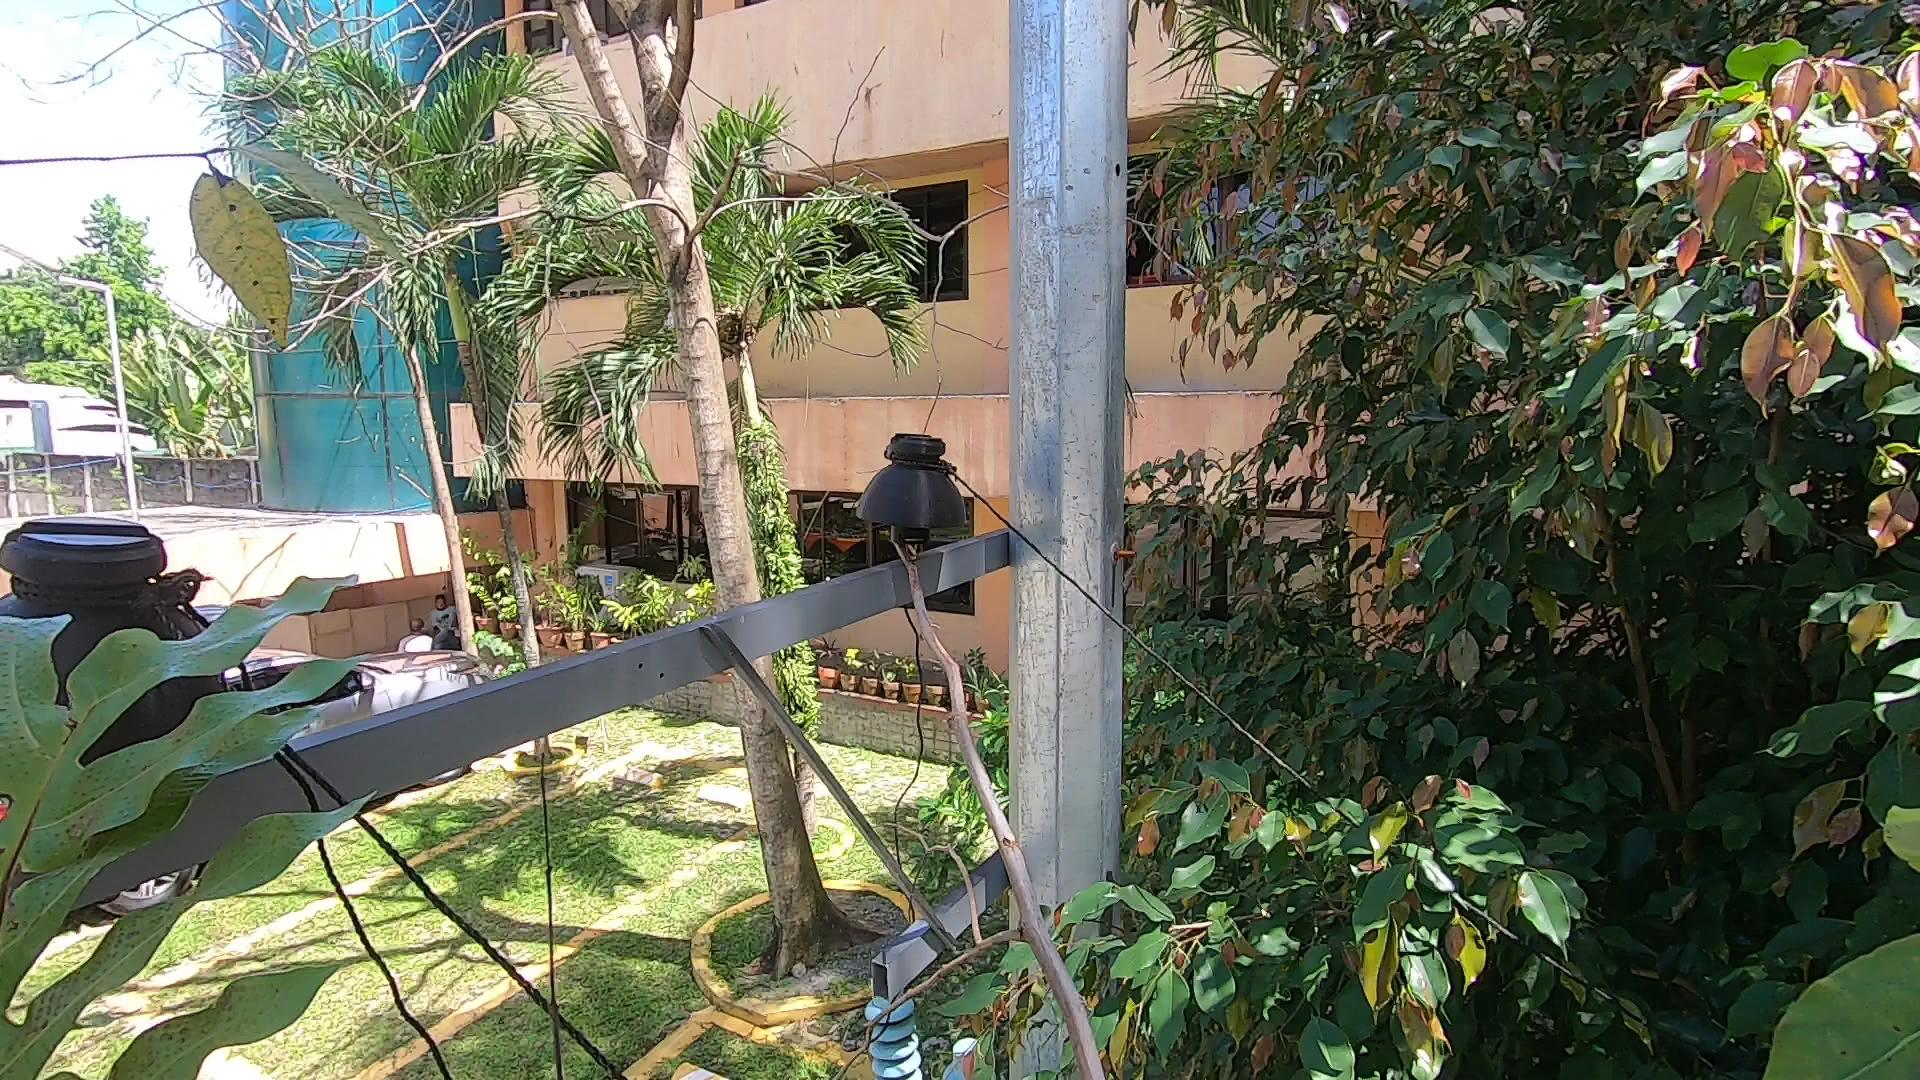branch with leaves: (981, 891, 1280, 1080)
leaf: (1, 495, 338, 1069)
tree branch: (860, 506, 1153, 1080)
